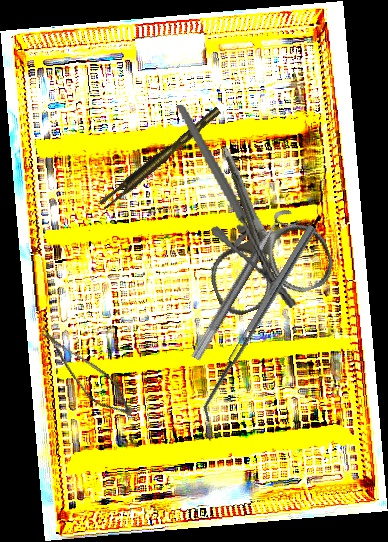Fixation Ring: (190, 205, 303, 369)
Iris Scissors: (169, 126, 340, 321)
Micro Scissor: (22, 326, 146, 422)
Needle Holder: (176, 90, 299, 322)
Spatula Surgical: (195, 224, 324, 423)
Tissue Forceps: (95, 106, 227, 211)
